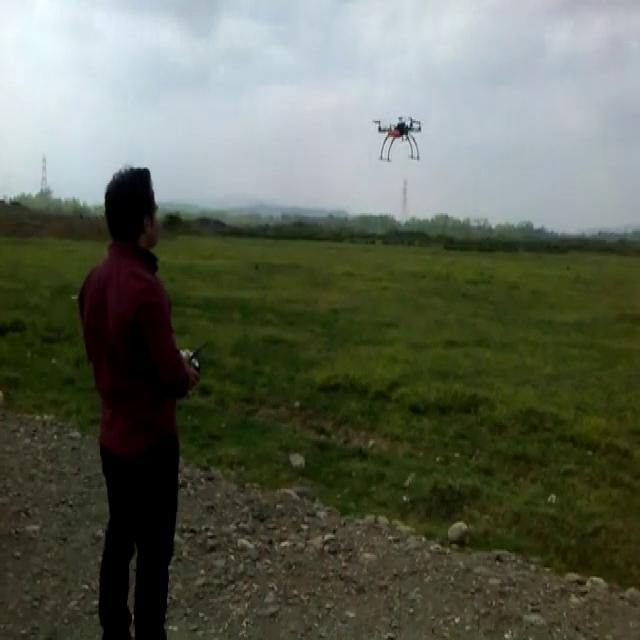drone: (371, 110, 424, 164)
